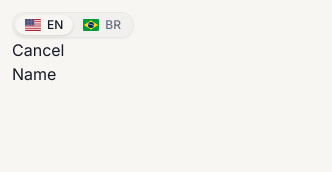
Test: LanguageToggle in the LocaleProvider › is disabled at 70% opacity while the messages load, then settles
Later steps or results of the test are not shown.
Click the radio button with aria-label "Português". click: click(102, 25)
box: left=73, top=15, right=131, bottom=35
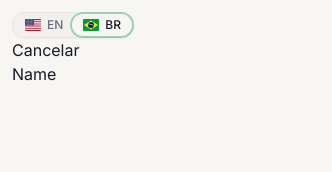
Now the text with test id "word" reads "Cancelar", box left=12, top=40, right=80, bottom=60
